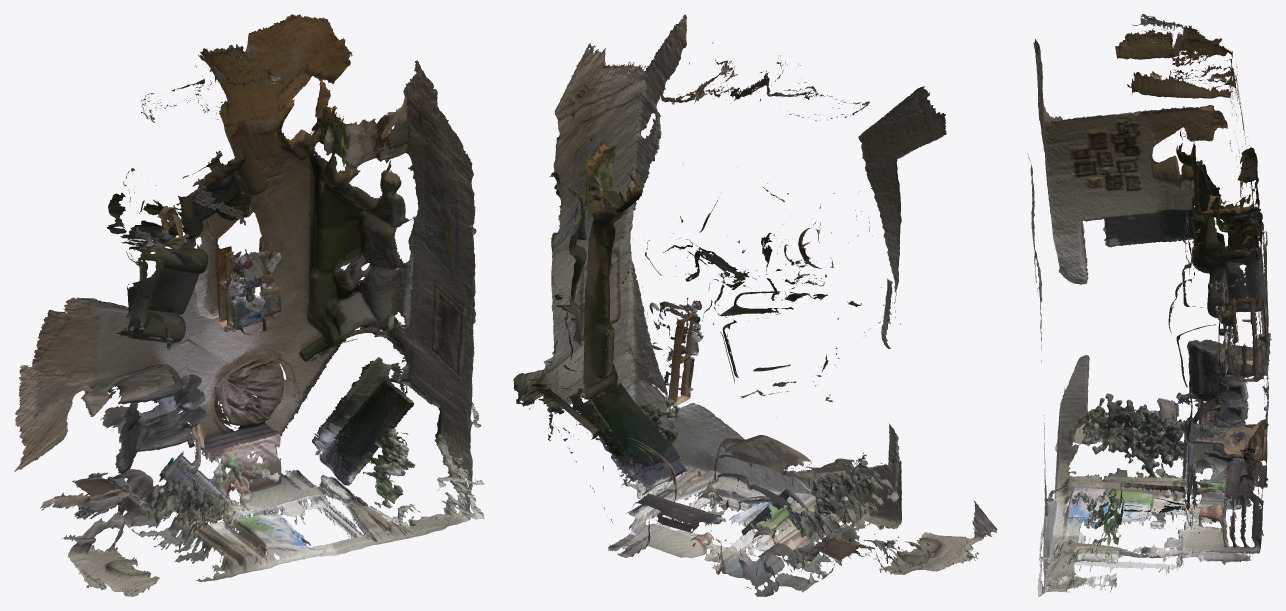
3 renders of one model, left to right at view 1: azimuth 30°, elevation 25°; view 2: azimuth 150°, elevation 25°; view 3: azimuth 270°, elevation 25°, orthographic. The views are drawn at different scales.
Parts seen in each view (by area): view 1: world; view 2: world; view 3: world.
Part boxes in pixels (x1,y1,x2,y2): world: (14,14,484,596); world: (513,14,997,596); world: (1028,14,1271,596).
Size of the model in its own units: 4.83 by 5.96 by 2.68.
